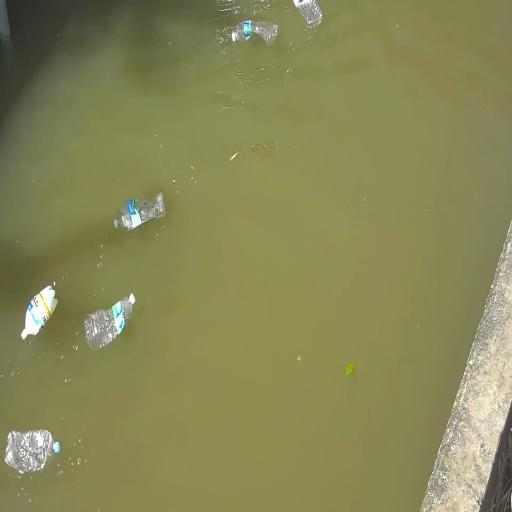plastic: (85, 294, 135, 348), (5, 430, 59, 474), (21, 285, 57, 339), (114, 192, 165, 230), (232, 20, 277, 45)
